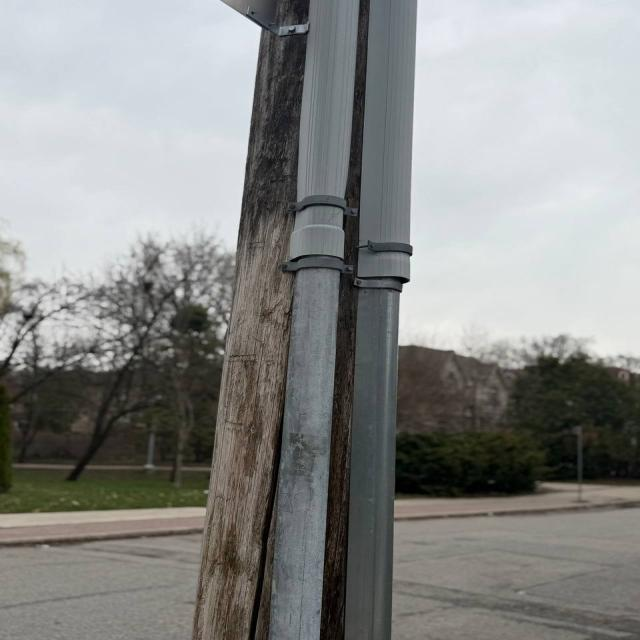Electrical Pole: (176, 0, 434, 640)
